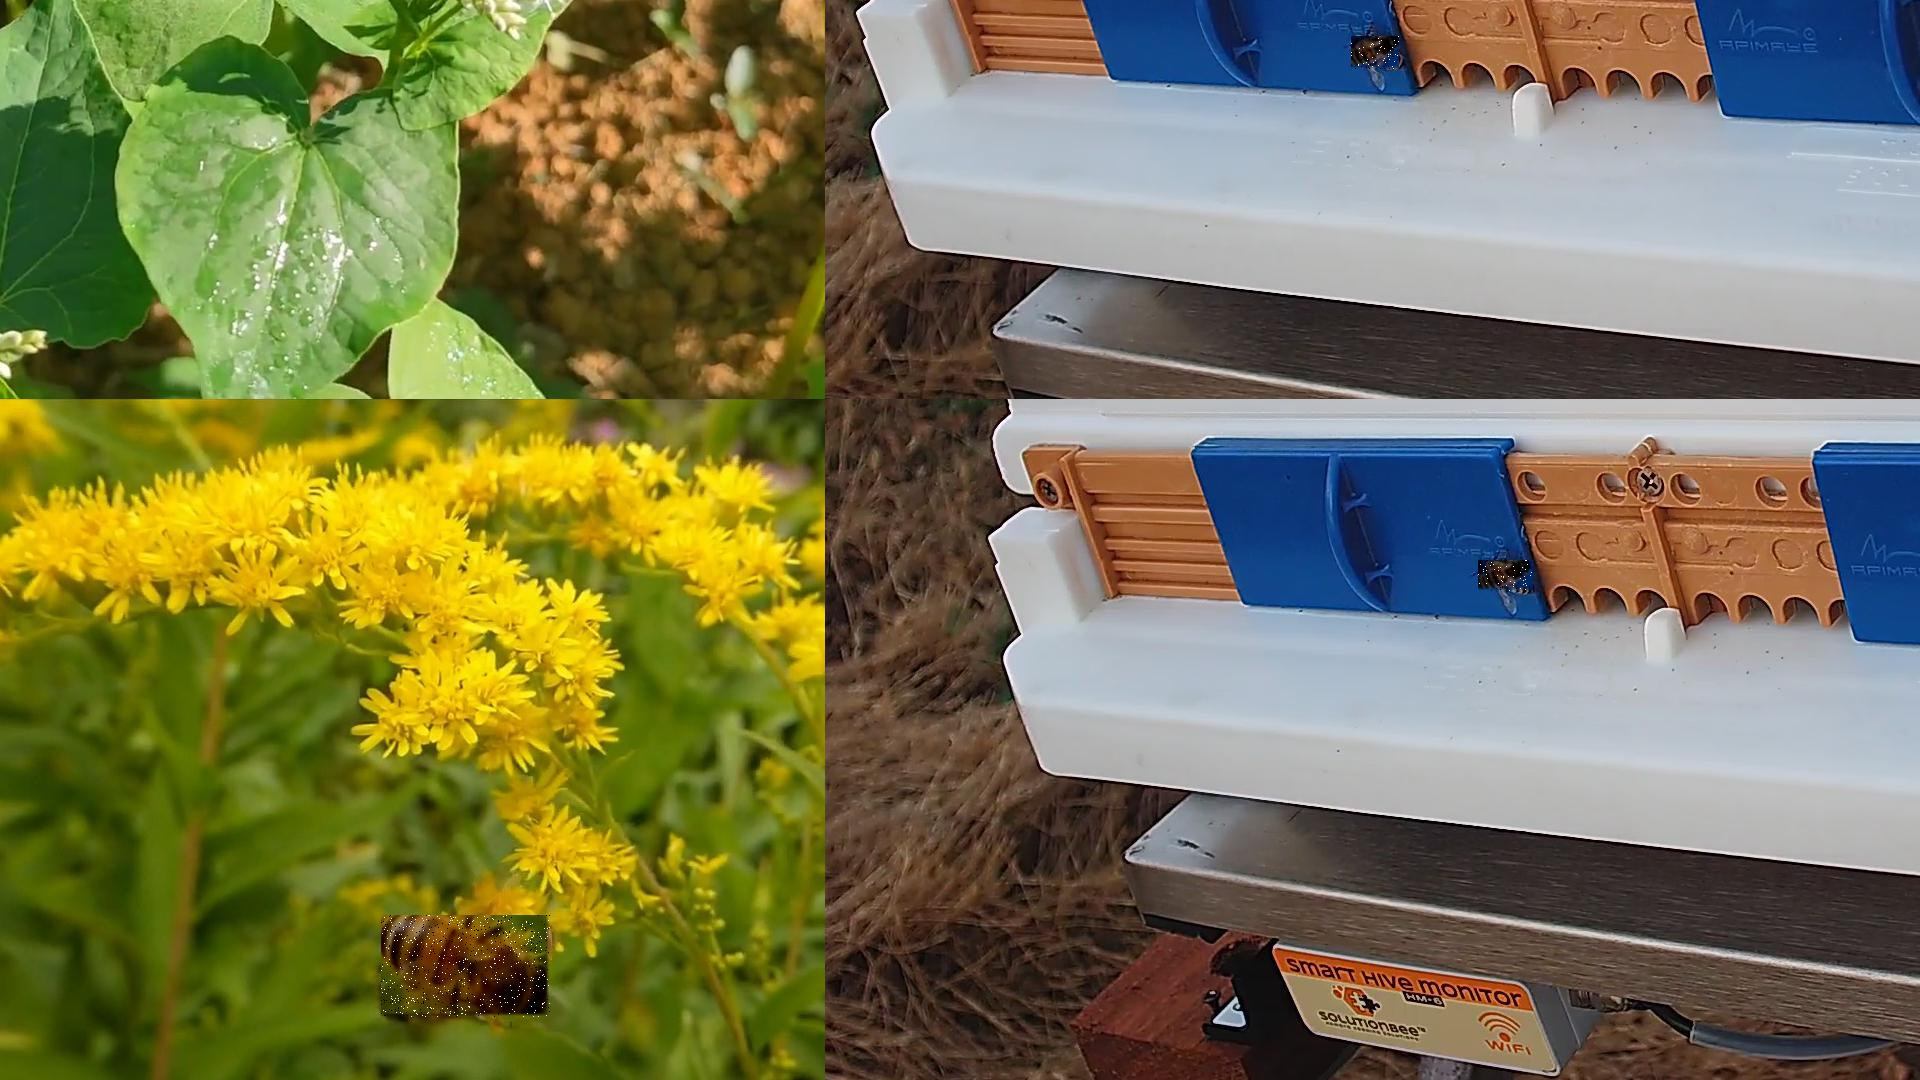bee: (382, 916, 553, 1019), (1478, 560, 1535, 593), (1352, 37, 1400, 71)
